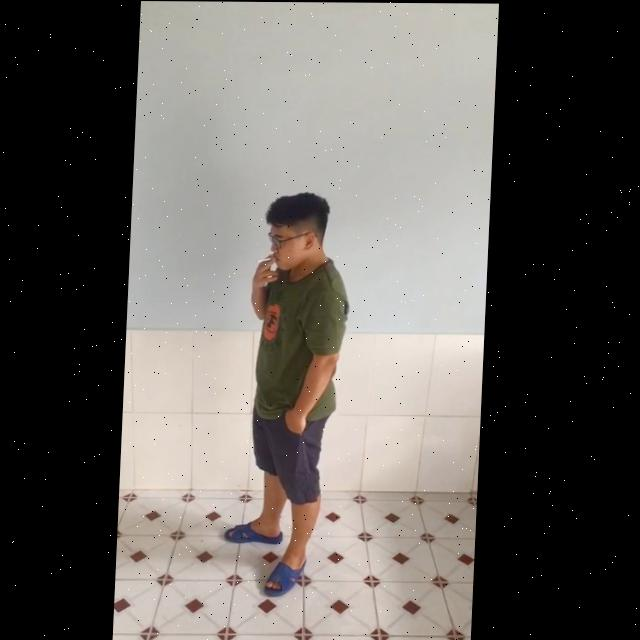cigarette: (258, 257, 278, 263)
